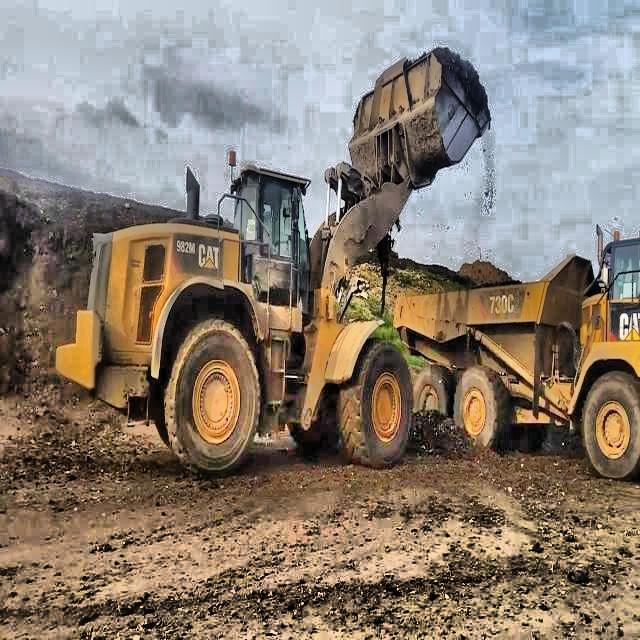bull_dozer/loader/grader: (54, 43, 492, 474)
dump_truck: (394, 223, 640, 477)
